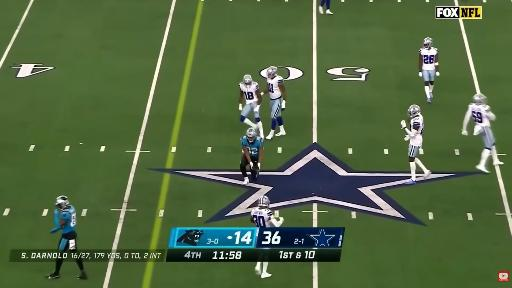Helmet: (406, 104, 424, 117), (56, 196, 69, 210), (474, 93, 486, 106), (258, 196, 270, 208), (424, 38, 434, 51), (268, 65, 277, 78), (248, 128, 256, 142), (243, 75, 253, 86)
Jersey: (241, 136, 263, 159), (58, 206, 76, 234), (468, 104, 490, 126), (251, 208, 274, 228), (419, 47, 438, 70), (410, 114, 423, 146), (240, 82, 258, 104), (267, 76, 283, 99)
Player: (462, 94, 502, 173), (401, 105, 430, 185), (263, 67, 286, 139), (239, 75, 263, 136), (51, 196, 77, 252), (240, 128, 263, 184), (419, 38, 439, 102), (251, 196, 283, 234), (319, 0, 333, 14)
